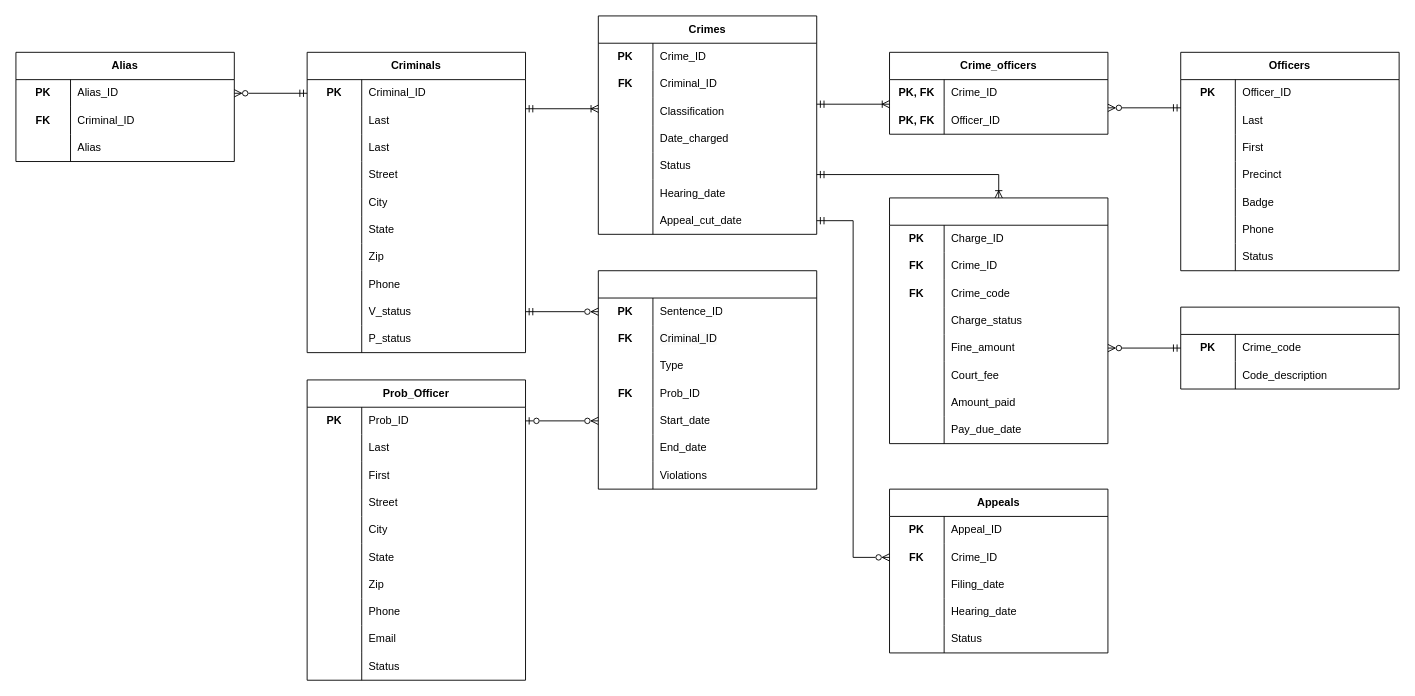
Image size: 1415x696. Some labels were removed from this diagram. Here are the shapes that lost their labels. From the top down, the box of each, then its label:
(889, 197, 1108, 444): Crime_charges
(1180, 306, 1399, 389): Crime_codes
(597, 270, 817, 489): Sentences
